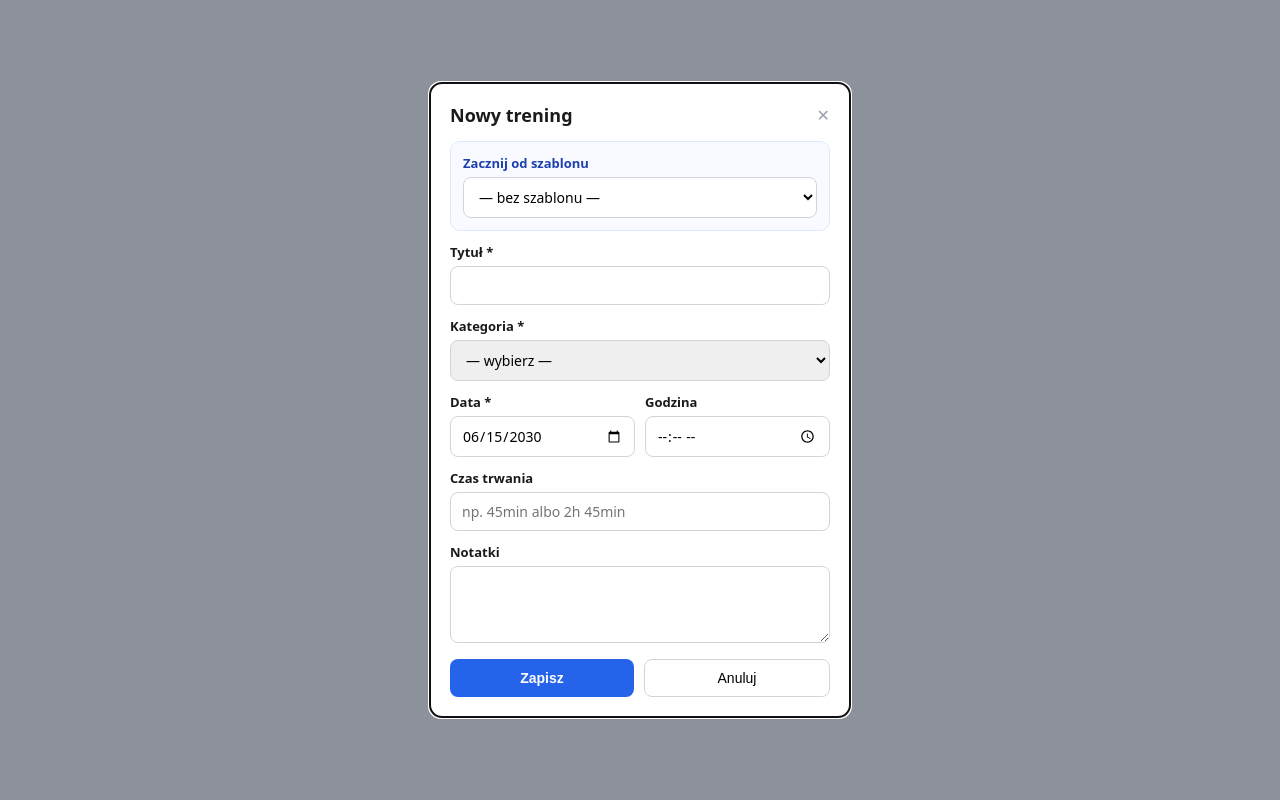
TrainingPlanForm › wyczyszczenie szablonu opróżnia wypełnione pola
Select "Trening nóg · 1h" in the dropdown labelled "Zacznij od szablonu" at [640, 198], box [463,177,817,218]
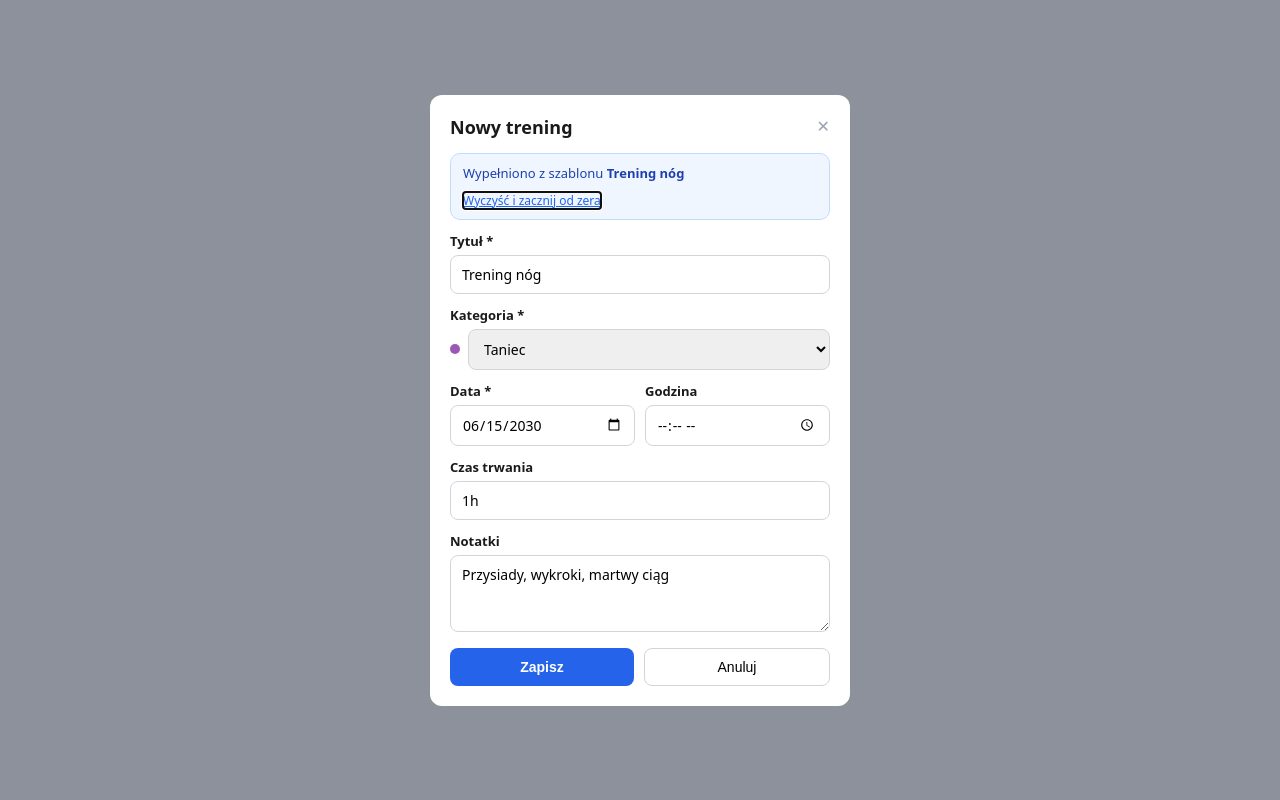
Click the button "Wyczyść i zacznij od zera" at [532, 200], box [463,192,601,208]
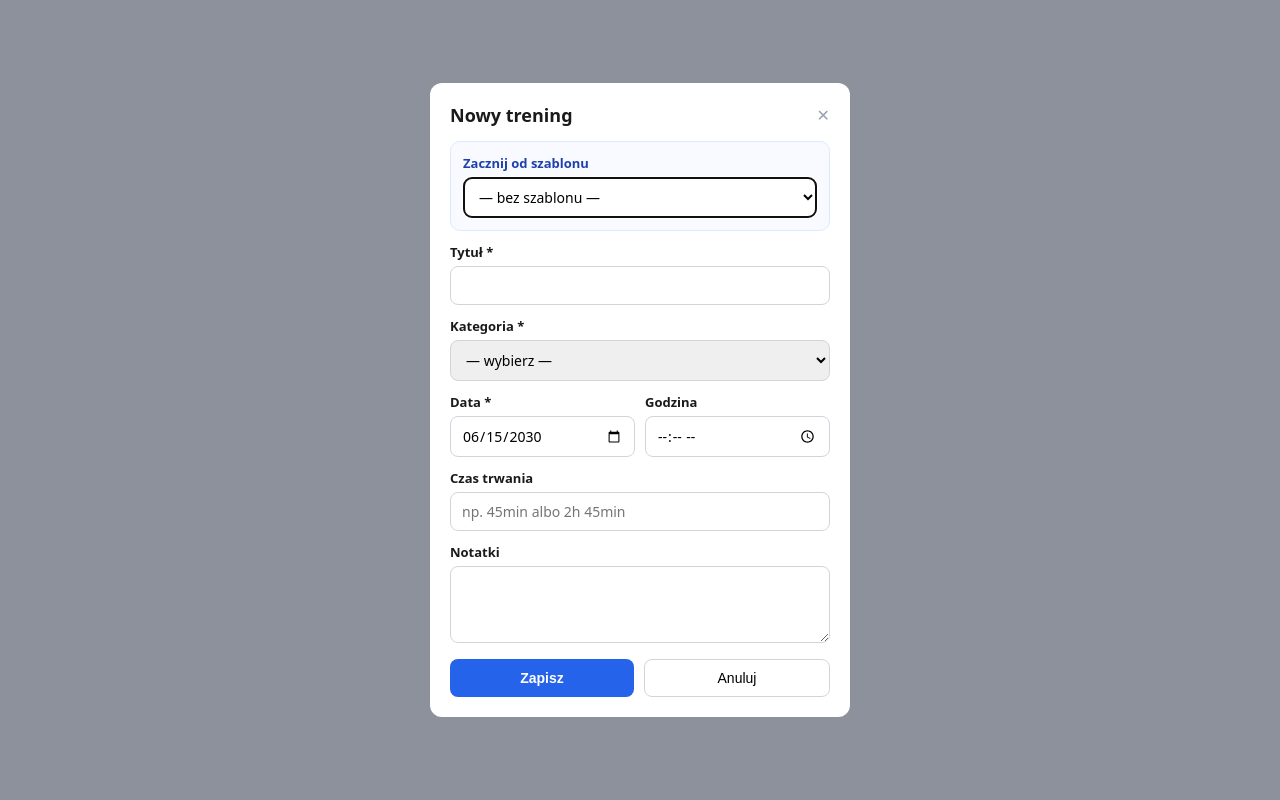
Expected: the field labelled "Tytuł *" is empty, [450,266,830,305]
Expected: the text box labelled "Notatki" is empty, [450,566,830,643]
Expected: the dropdown labelled "Zacznij od szablonu" is shown, [463,177,817,218]
